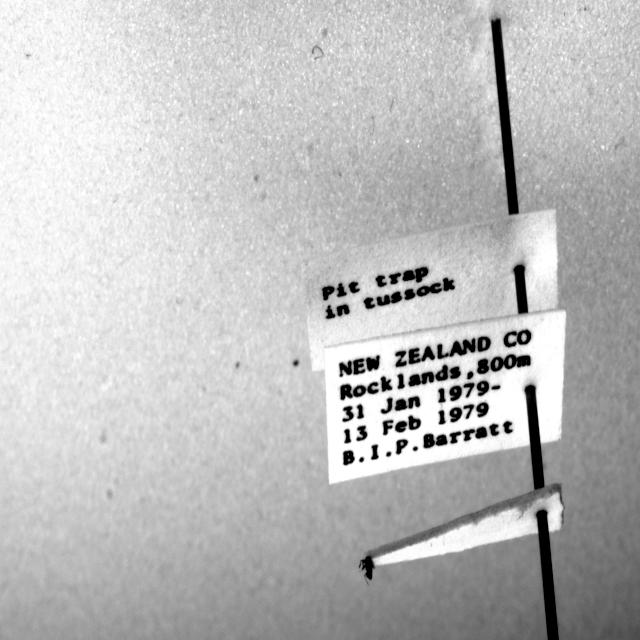typed_label: (325, 311, 566, 484), (302, 210, 558, 371)
